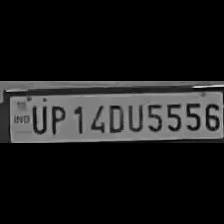1: (68, 102, 86, 134)
4: (86, 102, 106, 134)
5: (143, 100, 163, 132), (164, 100, 182, 132), (182, 99, 200, 131)
6: (202, 100, 220, 130)
D: (104, 100, 124, 134)
P: (46, 102, 66, 136)
U: (27, 102, 47, 134), (126, 100, 144, 132)
